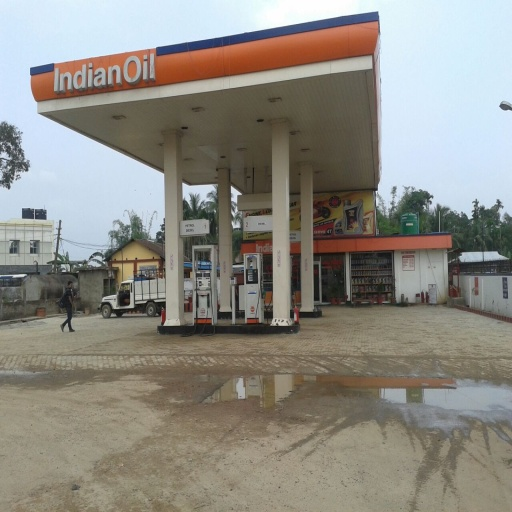roof: (28, 11, 384, 187)
